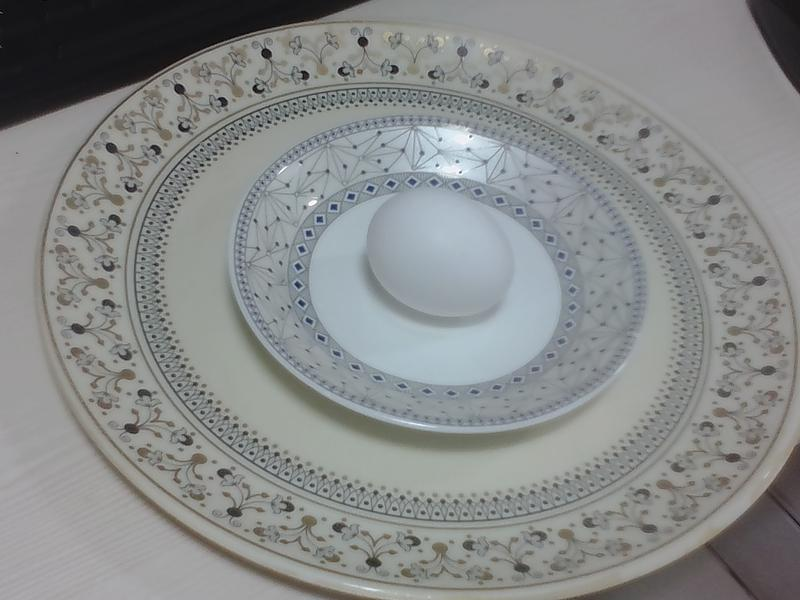egg: (368, 187, 513, 318)
